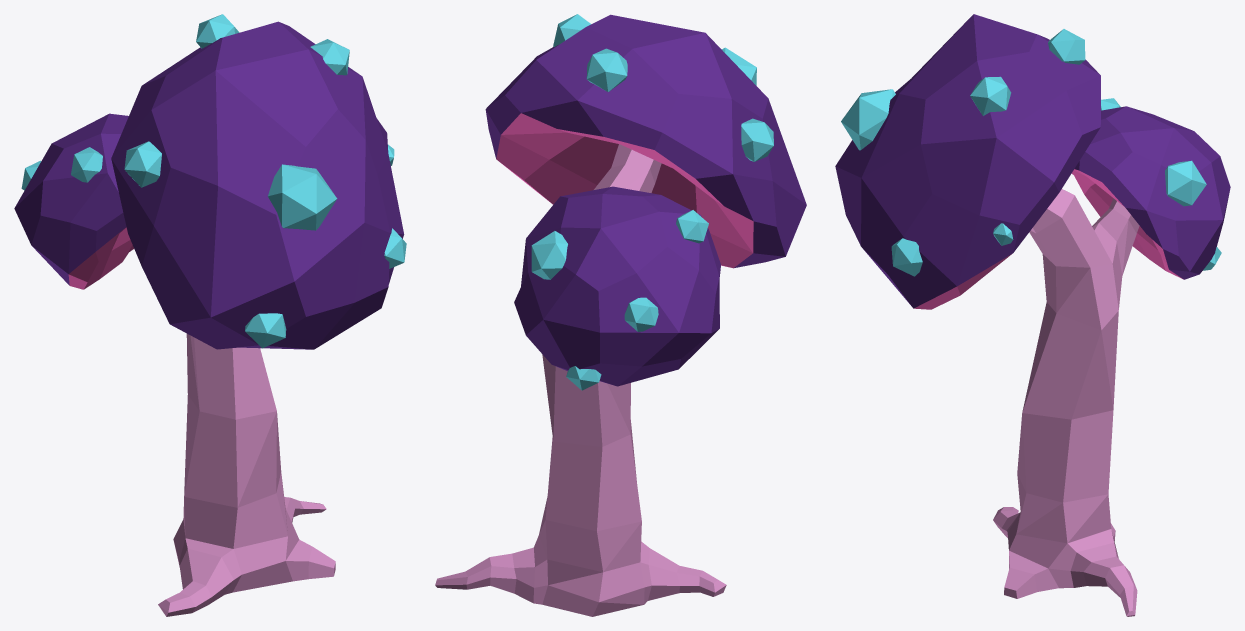
Rendered from Mushroom_Tree_03.fbx.
3 renders of one model, left to right at view 1: azimuth 30°, elevation 25°; view 2: azimuth 150°, elevation 25°; view 3: azimuth 270°, elevation 25°, orthographic. The views are drawn at different scales.
Visible parts, largest first — view 1: Mushroom_Tree_03; view 2: Mushroom_Tree_03; view 3: Mushroom_Tree_03.
Boxes of the visible parts, x1,y1,x2,y2 form: Mushroom_Tree_03: (14, 14, 406, 616); Mushroom_Tree_03: (435, 14, 806, 616); Mushroom_Tree_03: (835, 14, 1230, 616).
Size of the model in its own units: 232 by 423 by 290.
